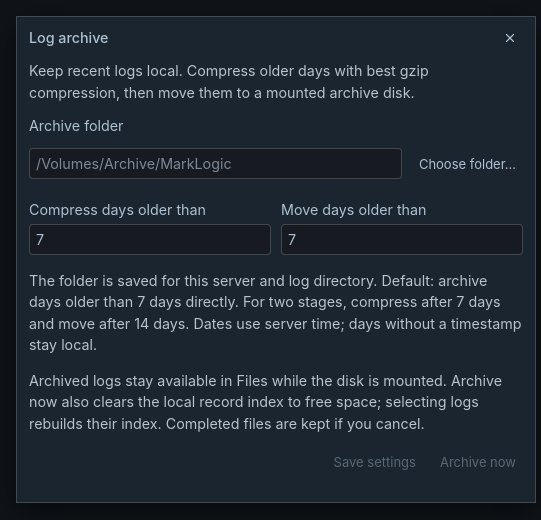
Test: log archive settings › persists the selected folder immediately
The image size is (541, 520).
Click the button "Choose folder…". click: (467,164)
box: [412,148,523,180]
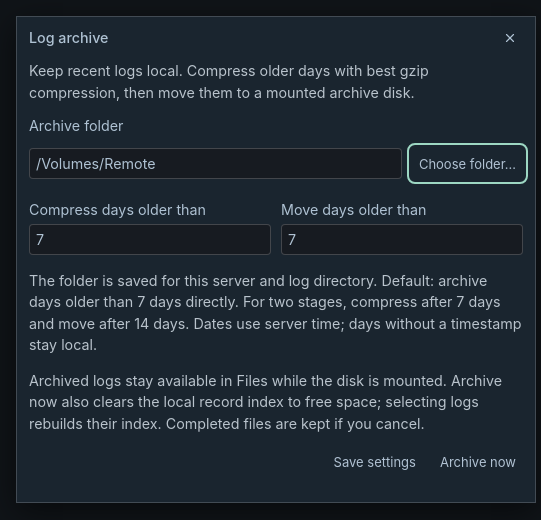
Now the field labelled "Archive folder" holds "/Volumes/Remote", box [29,148,402,180]
